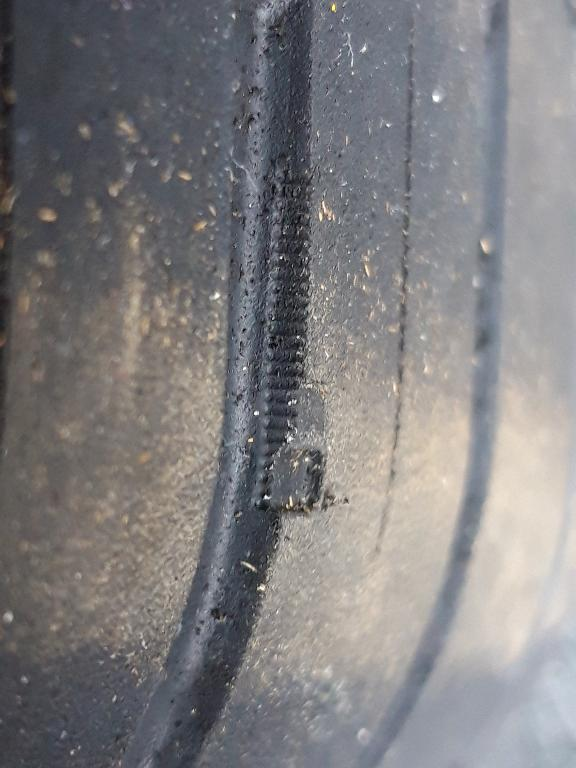temoin:25: (239, 363, 350, 546)
